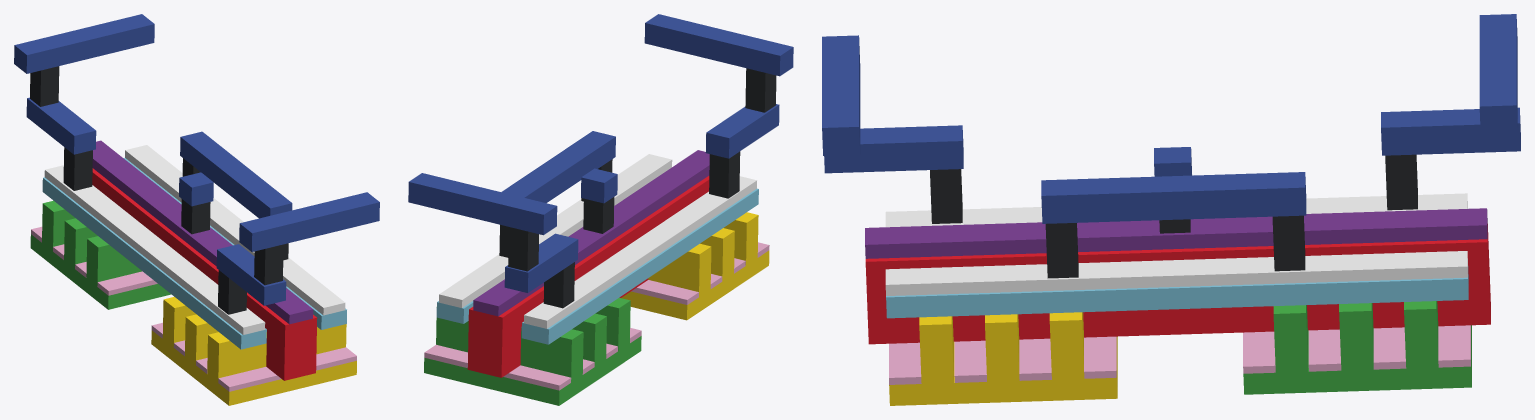
Rendered from 14inv.obj.
The picture shows the model from 3 angles, left to right: view 1: azimuth 30°, elevation 25°; view 2: azimuth 150°, elevation 25°; view 3: azimuth 270°, elevation 25°; orthographic projection. The views are drawn at different scales.
Parts seen in each view (by area): view 1: group_0_3888547, group_0_16448250, group_0_16768282, group_0_4634441, group_0_15277357, group_0_2829873, group_0_8273816, group_0_8768998, group_0_15708628; view 2: group_0_3888547, group_0_16448250, group_0_4634441, group_0_16768282, group_0_2829873, group_0_15277357, group_0_8273816, group_0_8768998, group_0_15708628; view 3: group_0_3888547, group_0_15277357, group_0_16448250, group_0_8273816, group_0_8768998, group_0_16768282, group_0_4634441, group_0_15708628, group_0_2829873.
Boxes of the visible parts, x1,y1,x2,y2 form: group_0_3888547: (14,14,379,305); group_0_16448250: (44,145,345,334); group_0_16768282: (151,296,356,405); group_0_4634441: (30,200,171,309); group_0_15277357: (92,168,317,380); group_0_2829873: (30,66,288,314); group_0_8273816: (92,140,313,324); group_0_8768998: (42,158,346,349); group_0_15708628: (31,226,356,391); group_0_3888547: (408,14,793,292); group_0_16448250: (439,154,756,328); group_0_4634441: (424,297,641,405); group_0_16768282: (621,212,769,320); group_0_2829873: (499,68,776,308); group_0_15277357: (467,176,709,377); group_0_8273816: (473,150,709,316); group_0_8768998: (436,188,758,344); group_0_15708628: (424,242,769,390); group_0_3888547: (822,14,1520,223); group_0_15277357: (865,224,1490,344); group_0_16448250: (885,193,1467,295); group_0_8273816: (865,208,1487,258); group_0_8768998: (886,208,1468,318); group_0_16768282: (889,312,1117,405); group_0_4634441: (1243,301,1471,394); group_0_15708628: (889,325,1470,384); group_0_2829873: (930,154,1417,278).
Size of the model in its own units: 141 by 214 by 453.
